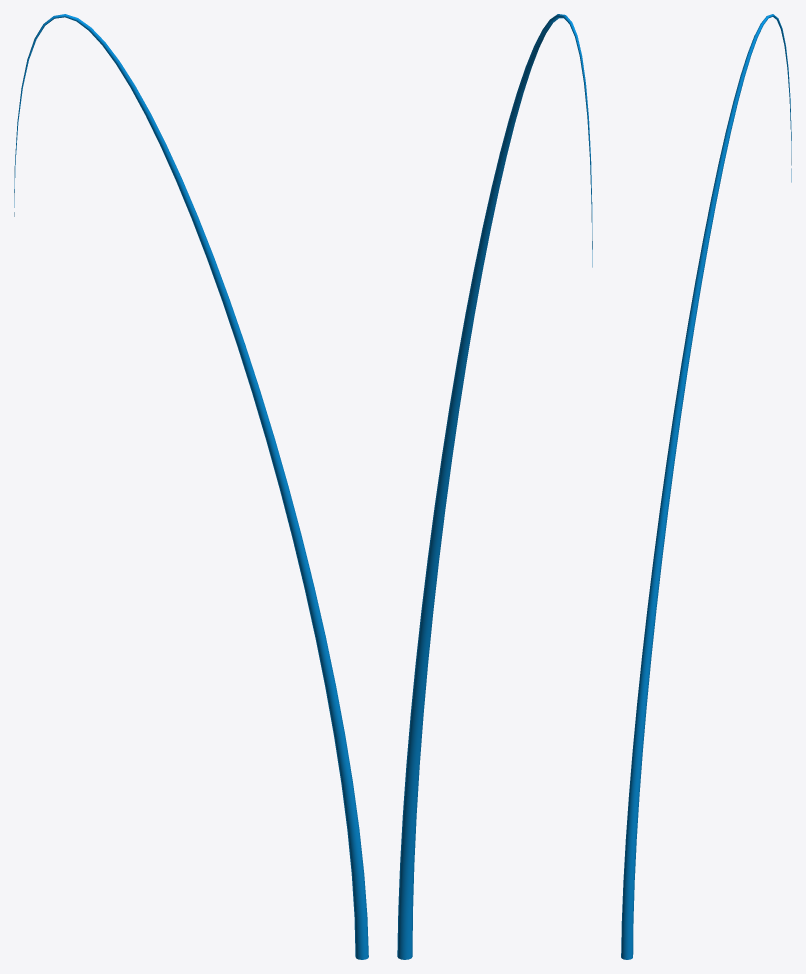
File: AguaGastandose.fbx
The picture shows the model from 3 angles, left to right: view 1: azimuth 30°, elevation 25°; view 2: azimuth 150°, elevation 25°; view 3: azimuth 270°, elevation 25°; orthographic projection. The views are drawn at different scales.
Visible parts, largest first — view 1: BézierCurve; view 2: BézierCurve; view 3: BézierCurve.
Boxes of the visible parts, x1,y1,x2,y2 form: BézierCurve: (14, 14, 368, 959); BézierCurve: (397, 14, 592, 959); BézierCurve: (621, 14, 791, 959).
Bounding box in the file's own units: 82.92 × 284 × 51.94.
